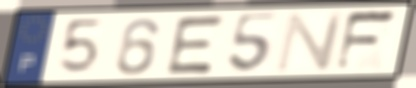5: (224, 10, 284, 76), (56, 17, 105, 77)
6: (113, 16, 162, 77)
E: (161, 13, 229, 77)
F: (332, 8, 400, 74)
N: (273, 10, 349, 75)
